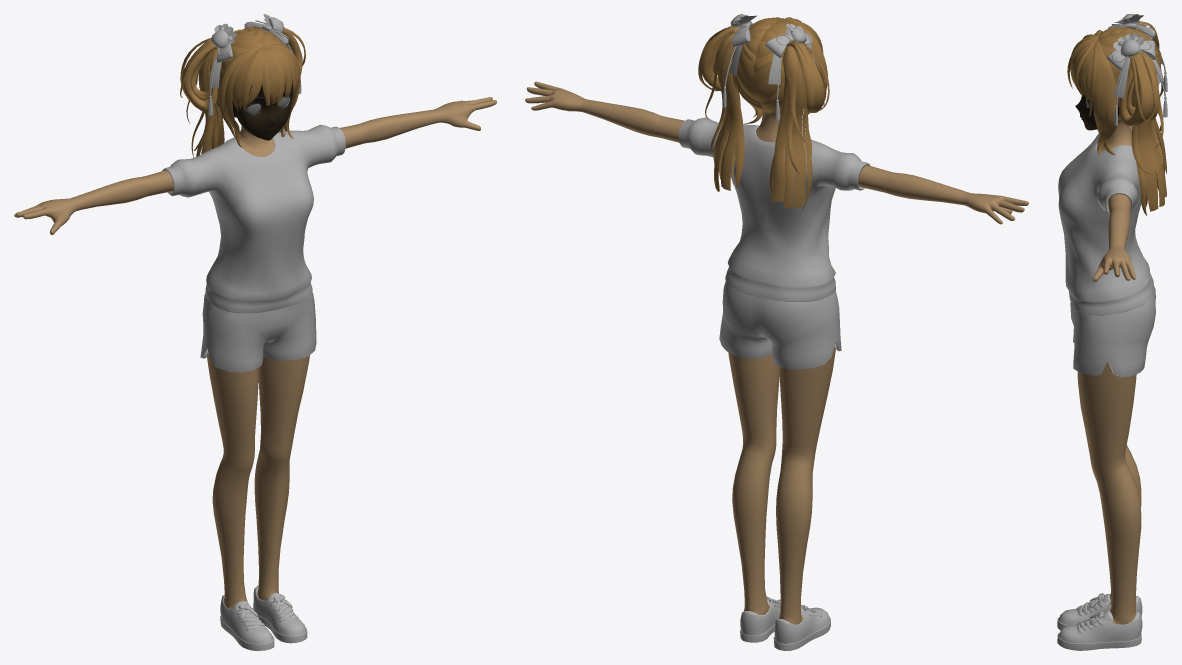
File: Ms_M_TLY_Casual_003.fbx
The picture shows the model from 3 angles, left to right: view 1: azimuth 30°, elevation 25°; view 2: azimuth 150°, elevation 25°; view 3: azimuth 270°, elevation 25°; orthographic projection. The views are drawn at different scales.
Parts seen in each view (by area): view 1: Cloth, Body, Hair, Face; view 2: Cloth, Body, Hair; view 3: Cloth, Body, Hair, Face.
Part boxes in pixels (x1=…): Cloth: x1=162, y1=14, x2=345, y2=650; Body: x1=14, y1=97, x2=496, y2=609; Hair: x1=180, y1=26, x2=305, y2=194; Face: x1=217, y1=80, x2=293, y2=140; Cloth: x1=678, y1=14, x2=870, y2=650; Body: x1=525, y1=81, x2=1028, y2=624; Hair: x1=698, y1=17, x2=829, y2=210; Cloth: x1=1057, y1=14, x2=1167, y2=650; Body: x1=1077, y1=119, x2=1141, y2=624; Hair: x1=1067, y1=21, x2=1166, y2=215; Face: x1=1075, y1=80, x2=1119, y2=130.
Size of the model in its own units: 128 by 154 by 25.13.
